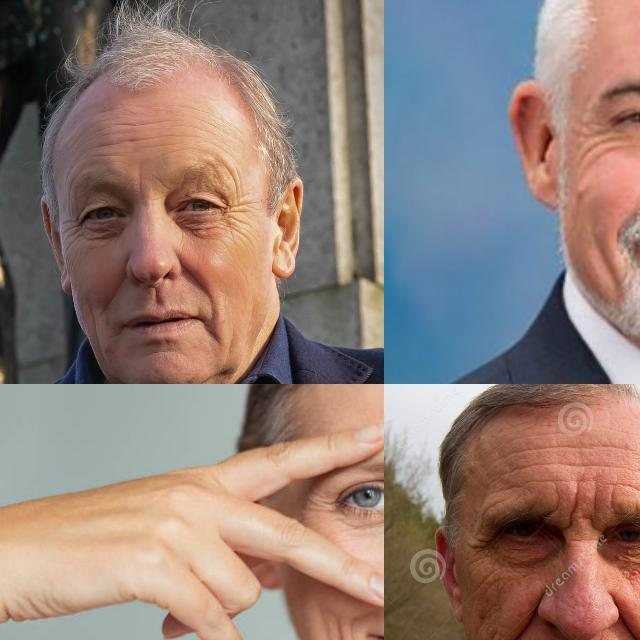crows_feet: (577, 120, 615, 158), (307, 488, 339, 526), (221, 195, 251, 229), (56, 215, 86, 242), (469, 531, 497, 559)
forehead: (117, 113, 161, 137), (188, 112, 232, 136), (503, 439, 553, 459), (222, 158, 246, 198), (557, 437, 597, 459), (520, 472, 560, 490), (610, 440, 640, 464), (63, 162, 83, 196), (564, 456, 606, 472), (93, 138, 121, 160), (511, 458, 543, 477), (618, 475, 640, 497)
frown_line: (566, 496, 580, 530), (132, 171, 150, 197), (587, 492, 601, 524), (604, 486, 618, 512), (548, 489, 562, 515)
gummy_smile: (178, 259, 212, 295), (102, 266, 130, 308), (507, 606, 540, 640), (616, 608, 640, 640)
masseter: (87, 306, 105, 348), (325, 614, 352, 640), (480, 566, 502, 596)
sad_smile: (200, 322, 226, 346)
